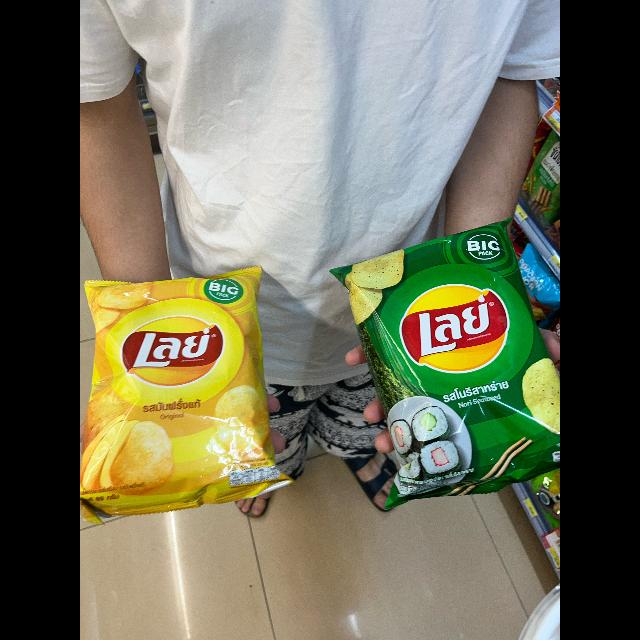snack_bag: (312, 222, 560, 506), (80, 268, 290, 530)
